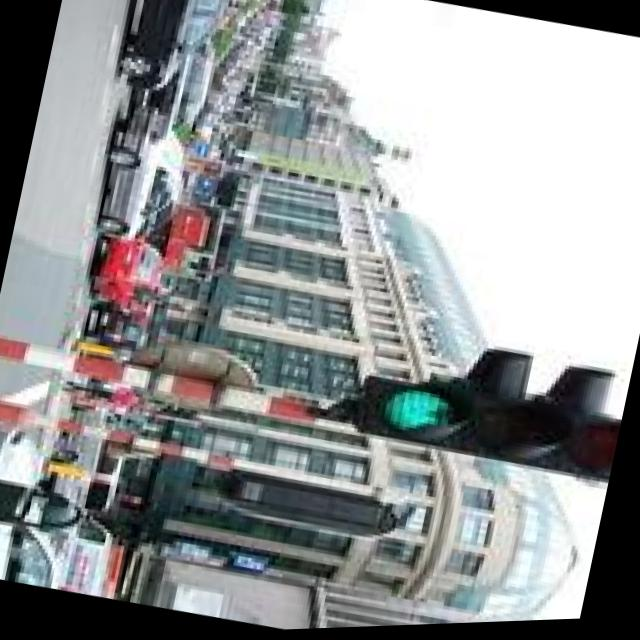green_light: (342, 347, 477, 469)
